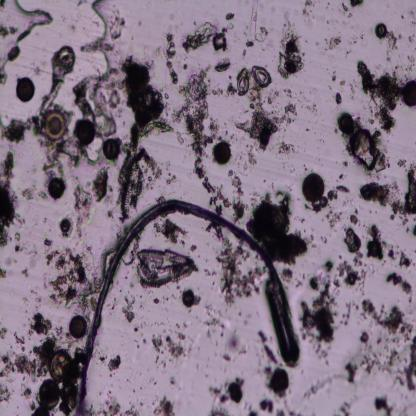Air bubble: (0, 0, 52, 70)
Background material: (123, 51, 174, 168), (200, 221, 265, 306), (360, 297, 416, 391), (248, 192, 312, 262), (180, 63, 222, 161), (46, 245, 102, 311), (298, 283, 340, 366), (237, 86, 282, 150), (341, 117, 391, 173), (31, 66, 64, 134), (357, 59, 403, 107), (193, 158, 231, 214), (0, 148, 20, 246), (277, 18, 305, 80), (37, 136, 79, 176), (148, 325, 190, 361), (84, 391, 141, 416), (74, 174, 96, 236), (391, 163, 416, 216), (95, 69, 124, 112), (359, 180, 400, 207), (182, 20, 216, 52), (337, 254, 371, 286), (0, 352, 35, 382), (255, 328, 282, 366), (33, 334, 56, 376), (230, 170, 248, 223), (138, 147, 160, 189), (221, 333, 249, 365), (154, 219, 186, 246), (162, 30, 178, 84), (0, 116, 34, 141), (91, 163, 110, 207), (25, 308, 54, 335), (202, 310, 231, 336), (364, 223, 384, 260), (246, 0, 262, 46), (74, 82, 94, 118), (386, 271, 413, 294), (342, 225, 364, 253), (58, 381, 75, 416), (20, 180, 49, 200), (107, 14, 128, 41), (302, 377, 329, 398), (376, 103, 396, 131), (150, 394, 174, 416), (98, 114, 122, 136), (278, 104, 300, 128), (21, 380, 37, 412), (123, 291, 137, 324), (374, 393, 394, 416), (78, 36, 101, 54), (326, 206, 344, 227), (214, 54, 235, 72), (386, 29, 398, 60), (345, 360, 360, 384), (309, 268, 325, 290), (258, 394, 274, 416), (404, 51, 416, 80), (242, 144, 256, 168), (340, 300, 352, 327), (0, 383, 14, 406), (13, 327, 27, 349), (274, 405, 302, 416), (267, 83, 281, 105), (349, 76, 361, 101), (334, 399, 351, 416), (277, 141, 296, 156), (399, 248, 413, 268), (15, 232, 28, 253), (28, 243, 41, 264), (107, 355, 123, 372), (374, 21, 388, 40), (384, 241, 398, 260), (0, 22, 18, 36), (8, 44, 22, 62), (256, 24, 269, 43), (225, 80, 238, 98), (304, 0, 315, 21), (243, 401, 258, 416), (53, 322, 66, 339), (224, 12, 236, 30), (328, 35, 342, 50), (322, 258, 336, 272), (304, 202, 320, 214), (0, 61, 8, 84), (282, 266, 292, 284), (166, 171, 178, 186), (305, 101, 318, 114), (100, 42, 114, 52), (0, 324, 8, 341), (172, 106, 180, 123), (0, 264, 9, 279), (349, 214, 360, 226), (328, 188, 338, 201), (350, 0, 364, 9), (176, 130, 184, 144), (399, 215, 409, 226), (43, 235, 53, 246), (334, 91, 342, 104), (20, 267, 29, 278), (334, 272, 340, 288), (330, 70, 338, 82), (398, 159, 408, 168), (294, 214, 304, 223), (151, 296, 160, 306), (75, 0, 86, 8), (284, 87, 292, 98), (169, 372, 175, 386), (320, 234, 328, 244), (408, 32, 416, 42), (132, 324, 140, 334), (33, 296, 43, 304), (352, 301, 360, 311), (345, 49, 353, 58), (0, 0, 7, 10), (338, 173, 346, 181), (368, 116, 376, 124), (342, 160, 350, 168), (98, 355, 106, 363), (106, 210, 114, 218), (342, 3, 349, 12), (369, 104, 374, 115), (70, 22, 76, 31), (332, 127, 339, 134), (314, 40, 320, 48), (413, 223, 416, 238), (183, 61, 188, 70), (242, 48, 247, 57), (390, 214, 396, 221), (337, 253, 343, 260), (137, 19, 142, 27), (405, 226, 410, 234), (142, 337, 147, 345), (304, 163, 308, 172), (353, 208, 358, 215), (398, 32, 402, 40), (108, 186, 112, 194), (348, 12, 353, 18), (328, 83, 333, 89), (340, 80, 346, 85), (324, 37, 328, 44), (230, 133, 234, 140), (326, 1, 329, 10), (305, 127, 310, 132), (228, 74, 232, 80), (360, 34, 364, 39), (411, 21, 416, 25), (413, 216, 416, 222), (401, 13, 404, 19), (368, 210, 372, 214), (326, 20, 330, 24), (354, 39, 357, 44), (325, 47, 328, 51)
Cotton: (76, 193, 298, 416)
Diatom: (136, 246, 198, 291), (119, 161, 142, 219), (50, 348, 74, 382), (44, 110, 66, 141), (302, 174, 325, 202), (39, 378, 60, 408), (270, 368, 290, 396), (56, 46, 77, 71), (15, 76, 35, 102), (76, 119, 96, 144), (235, 66, 252, 94), (252, 65, 272, 88), (213, 141, 232, 165), (102, 138, 121, 162), (47, 176, 66, 200), (336, 112, 354, 135), (70, 314, 86, 338), (181, 286, 196, 310), (402, 80, 416, 105), (212, 33, 228, 51), (34, 404, 49, 416), (60, 218, 70, 232), (318, 197, 329, 208), (336, 185, 350, 193)
